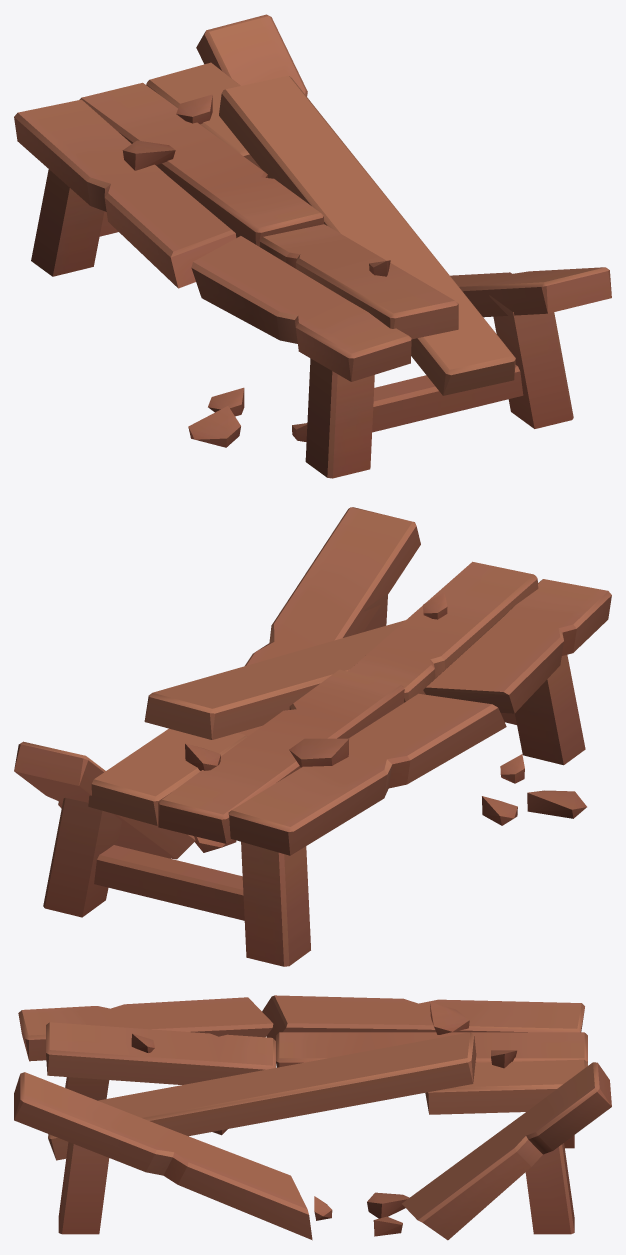
File: table_long_broken.glb
3 renders of one model, top to bottom at view 1: azimuth 30°, elevation 25°; view 2: azimuth 150°, elevation 25°; view 3: azimuth 270°, elevation 25°, orthographic. The views are drawn at different scales.
Visible parts, largest first — view 1: table_long_broken; view 2: table_long_broken; view 3: table_long_broken.
Part boxes in pixels (<box>): table_long_broken: <box>14,14,611,478</box>; table_long_broken: <box>14,507,611,966</box>; table_long_broken: <box>14,995,611,1240</box>.
Size of the model in its own units: 2.41 by 1.27 by 4.4.
Materials: 1 (1 with a texture image).
